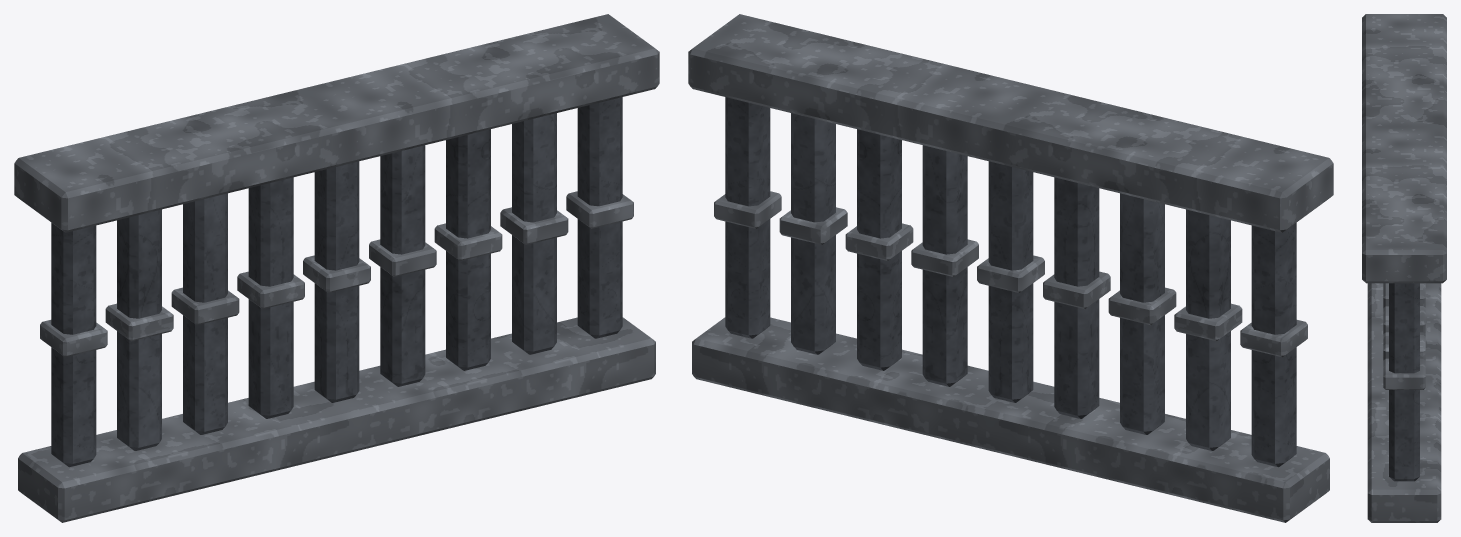
3 renders of one model, left to right at view 1: azimuth 30°, elevation 25°; view 2: azimuth 150°, elevation 25°; view 3: azimuth 270°, elevation 25°, orthographic. The views are drawn at different scales.
Parts seen in each view (by area): view 1: tooled-granite-edges, granite-ashlar; view 2: tooled-granite-edges, granite-ashlar; view 3: tooled-granite-edges, granite-ashlar.
Part boxes in pixels (box(x1,y1,x2,y2)): tooled-granite-edges: box(14, 14, 659, 522); granite-ashlar: box(51, 97, 622, 467); tooled-granite-edges: box(688, 14, 1333, 522); granite-ashlar: box(725, 97, 1296, 467); tooled-granite-edges: box(1362, 14, 1446, 522); granite-ashlar: box(1389, 283, 1419, 481).
Bounding box in the file's own units: 2 × 1.07 × 0.3.
2 materials, 2 textured.
